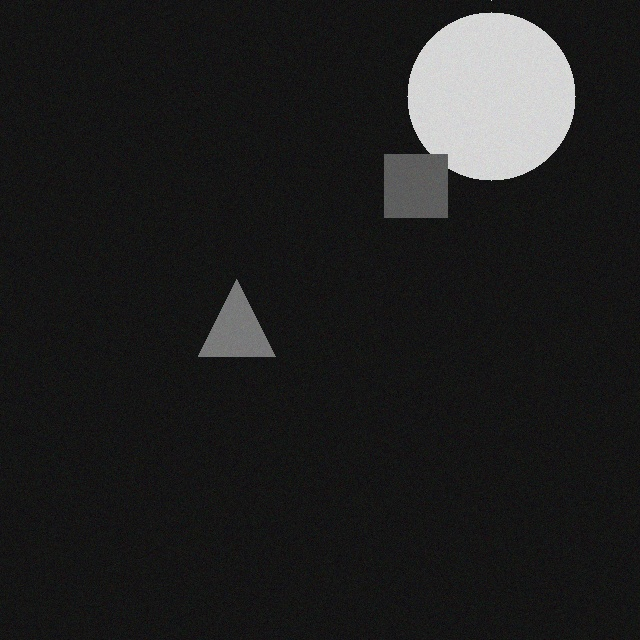circle: (413, 6, 581, 174)
square: (390, 148, 453, 211)
triangle: (204, 273, 281, 350)
